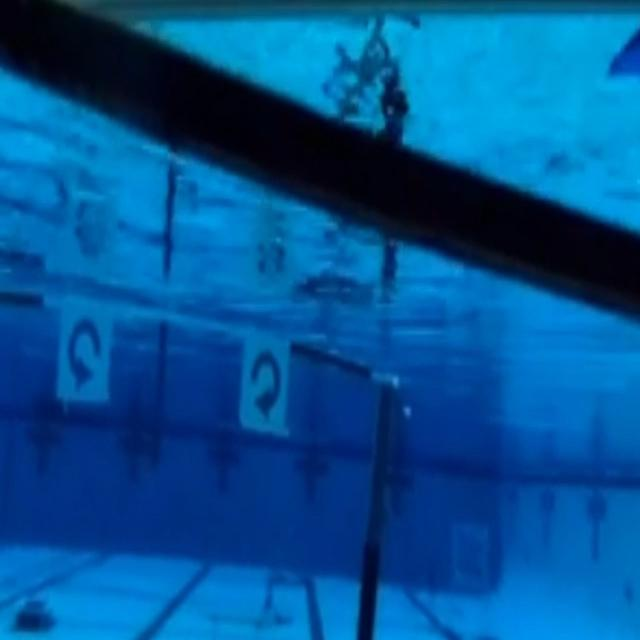Gate: (0, 254, 406, 638)
